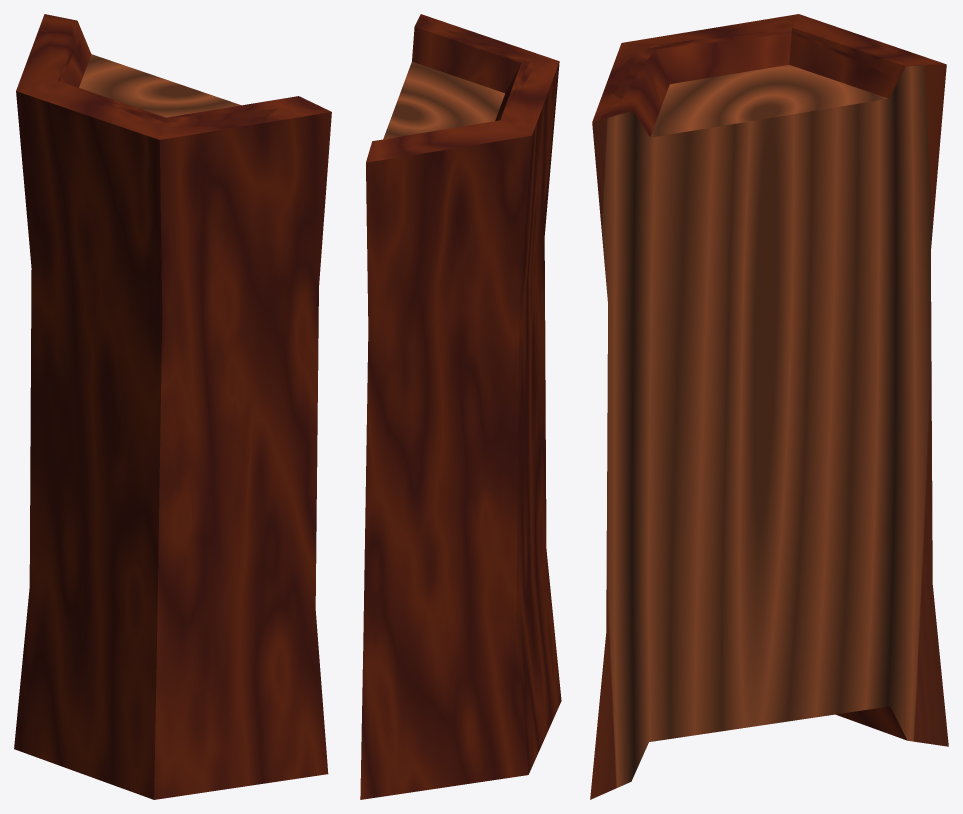
The model's file is wood_shard.fbx.
The picture shows the model from 3 angles, left to right: view 1: azimuth 30°, elevation 25°; view 2: azimuth 150°, elevation 25°; view 3: azimuth 270°, elevation 25°; orthographic projection. The views are drawn at different scales.
Parts seen in each view (by area): view 1: wood_shard; view 2: wood_shard; view 3: wood_shard.
Part boxes in pixels (x1,y1,x2,y2): wood_shard: (14,14,331,799); wood_shard: (360,14,561,799); wood_shard: (590,14,948,799).
Bounding box in the file's own units: 2.1 × 6.2 × 2.94.
1 material, 1 textured.
